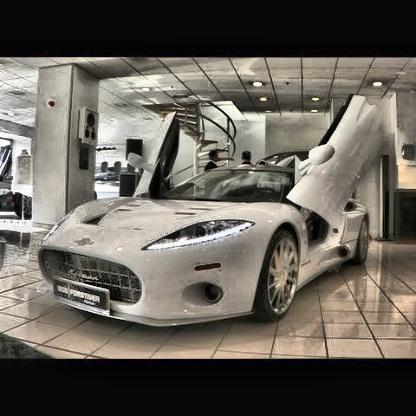Spyker C8 Coupe 2009: (37, 92, 389, 331)
